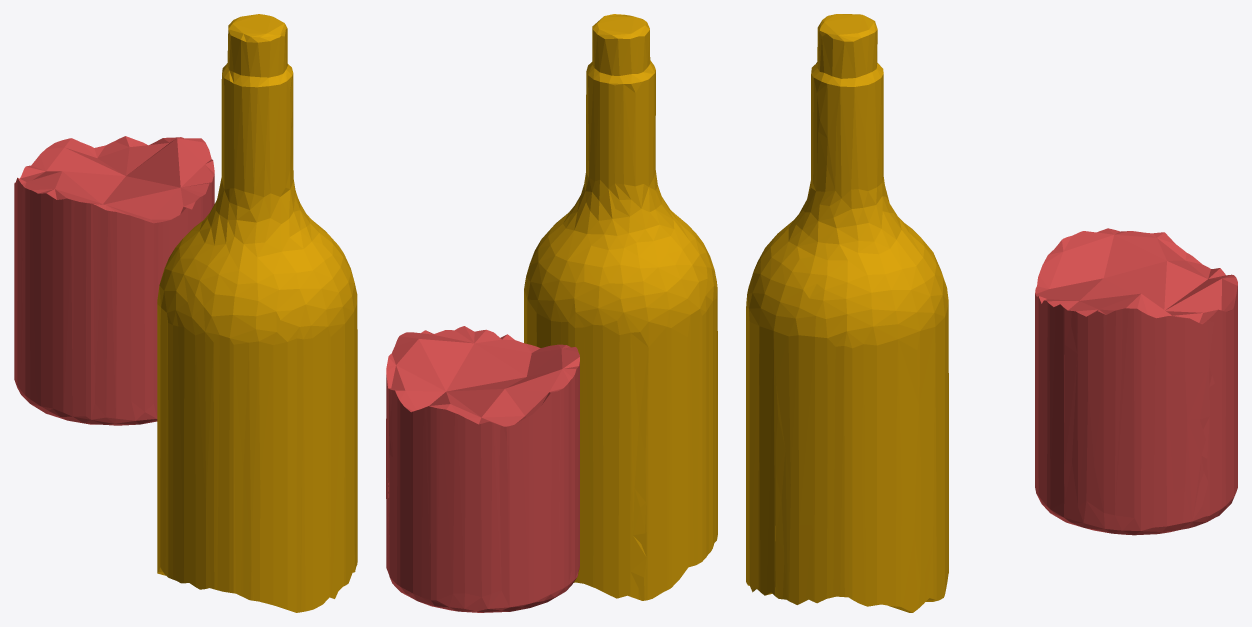
Rendered from fractured_59_2pcs_transformed.glb.
3 renders of one model, left to right at view 1: azimuth 30°, elevation 25°; view 2: azimuth 150°, elevation 25°; view 3: azimuth 270°, elevation 25°, orthographic. The views are drawn at different scales.
Visible parts, largest first — view 1: piece_0.obj, piece_1.obj; view 2: piece_0.obj, piece_1.obj; view 3: piece_0.obj, piece_1.obj.
Boxes of the visible parts, left/top/right/bottom form: piece_0.obj: left=157, top=14, right=357, bottom=612; piece_1.obj: left=14, top=136, right=214, bottom=425; piece_0.obj: left=524, top=14, right=717, bottom=600; piece_1.obj: left=386, top=326, right=579, bottom=612; piece_0.obj: left=746, top=14, right=948, bottom=612; piece_1.obj: left=1035, top=228, right=1237, bottom=535.
Size of the model in its own units: 0.2415 by 0.7442 by 0.5856.
